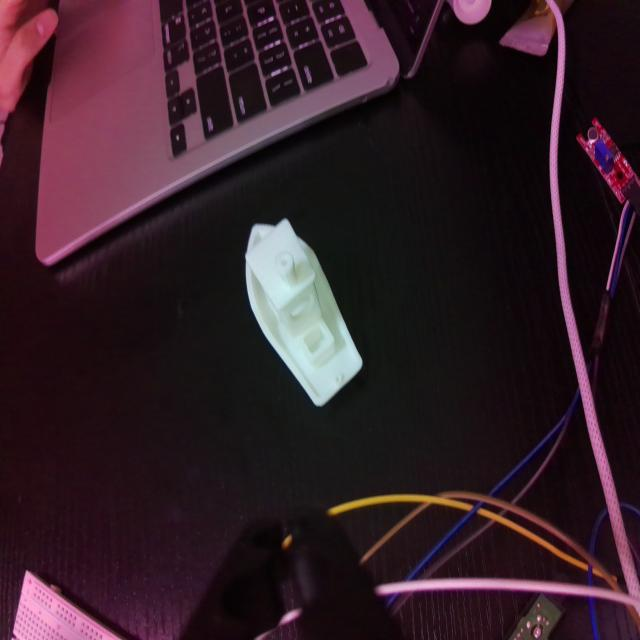ship: (243, 216, 364, 410)
